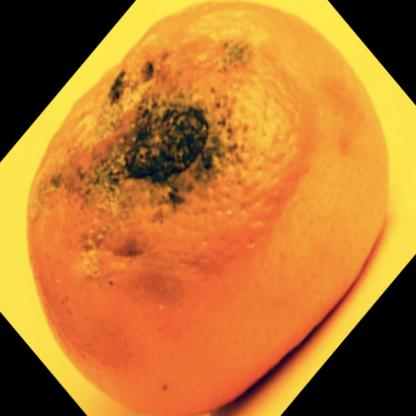rotten: (29, 1, 388, 416)
